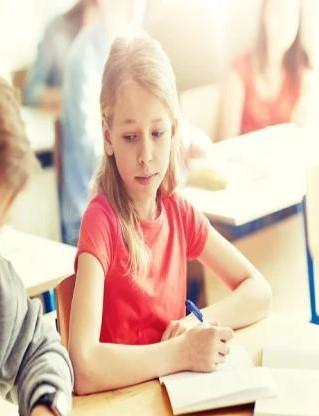cheating: (50, 24, 275, 416)
